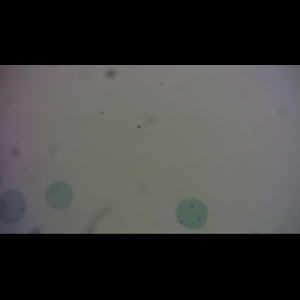erythrocyte: (43, 180, 75, 211)
punctate reticulocyte: (175, 198, 209, 229), (1, 187, 27, 224)
